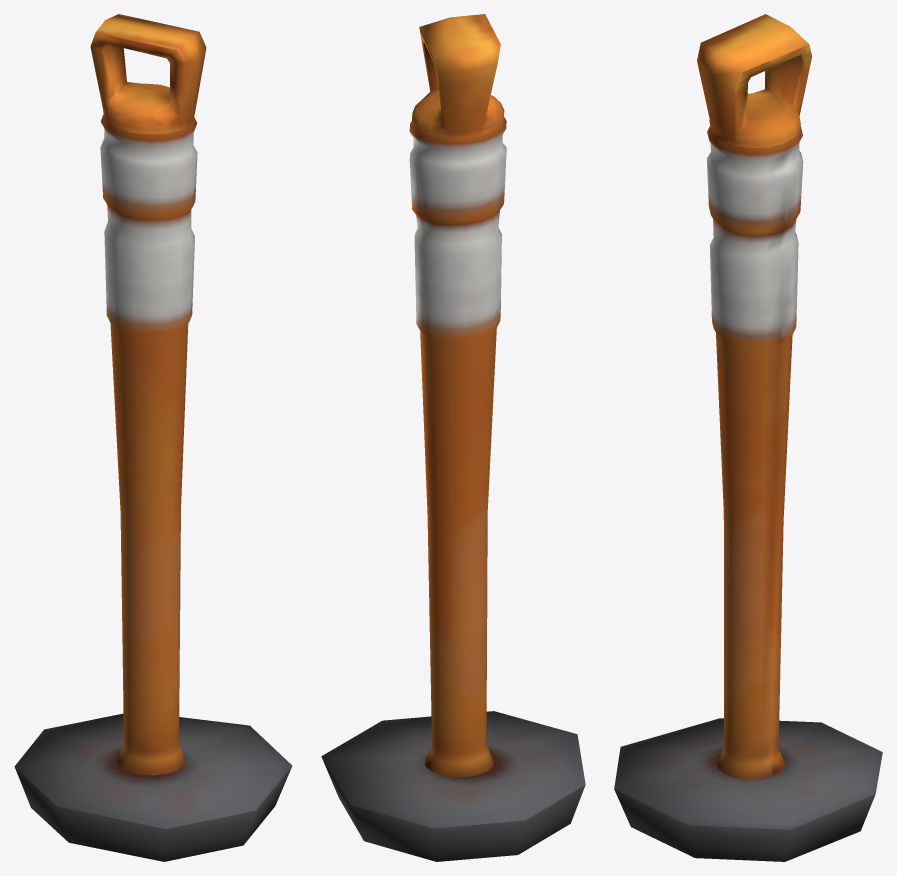
The model's file is nc_prop_delineator_01.fbx.
3 renders of one model, left to right at view 1: azimuth 30°, elevation 25°; view 2: azimuth 150°, elevation 25°; view 3: azimuth 270°, elevation 25°, orthographic.
Visible parts, largest first — view 1: nc_prop_delineator_01_LOD0; view 2: nc_prop_delineator_01_LOD0; view 3: nc_prop_delineator_01_LOD0.
Boxes of the visible parts, bbox=[...] form: nc_prop_delineator_01_LOD0: bbox=[14, 14, 292, 861]; nc_prop_delineator_01_LOD0: bbox=[321, 14, 585, 861]; nc_prop_delineator_01_LOD0: bbox=[614, 14, 882, 861].
Size of what is drawn, in the model's own units: 0.3598 by 1.18 by 0.3705.
Materials: 1 (1 with a texture image).
